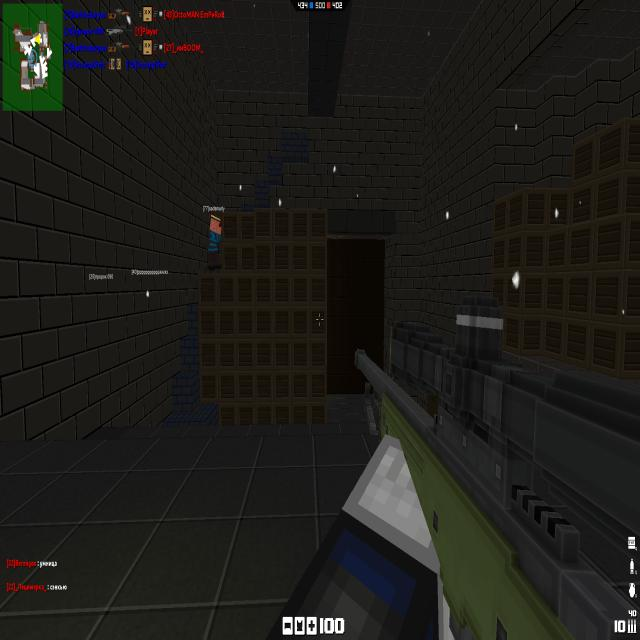player: (208, 215, 221, 269)
